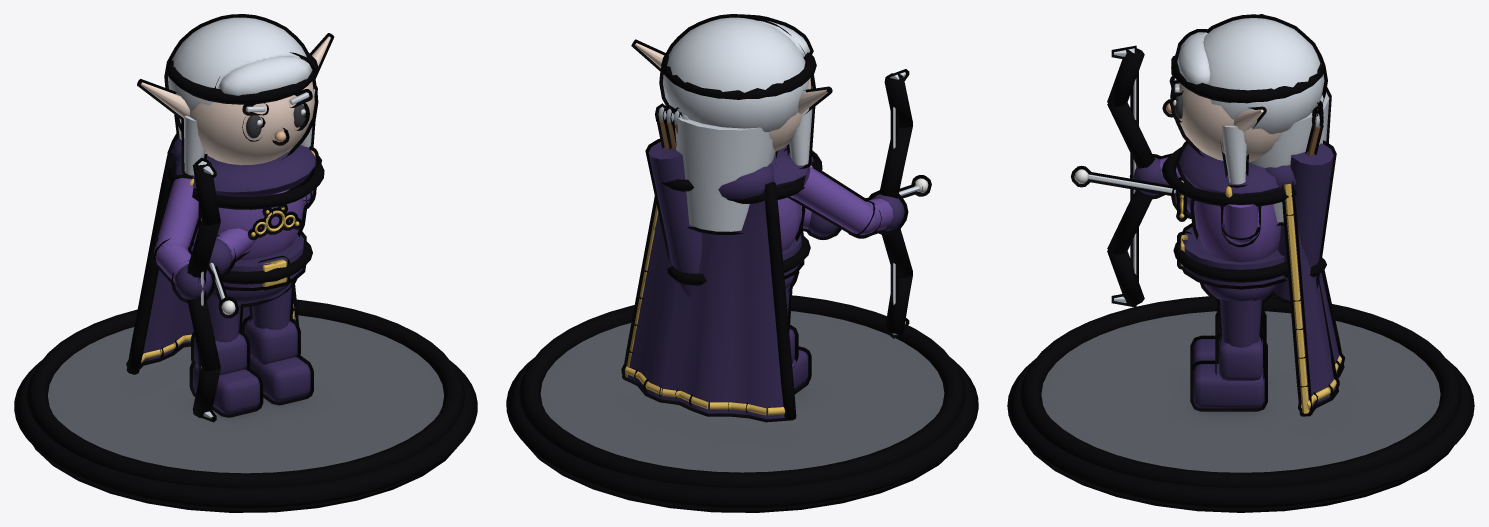
File: moon_archer_s3.fbx
The picture shows the model from 3 angles, left to right: view 1: azimuth 30°, elevation 25°; view 2: azimuth 150°, elevation 25°; view 3: azimuth 270°, elevation 25°; orthographic projection.
Visible parts, largest first — view 1: moon_archer_s3; view 2: moon_archer_s3; view 3: moon_archer_s3.
Boxes of the visible parts, x1,y1,x2,y2 form: moon_archer_s3: [14, 14, 477, 512]; moon_archer_s3: [506, 14, 978, 512]; moon_archer_s3: [1007, 14, 1474, 512].
Bounding box in the file's own units: 1.58 × 1.48 × 1.58.
Materials: 2 (1 with a texture image).
